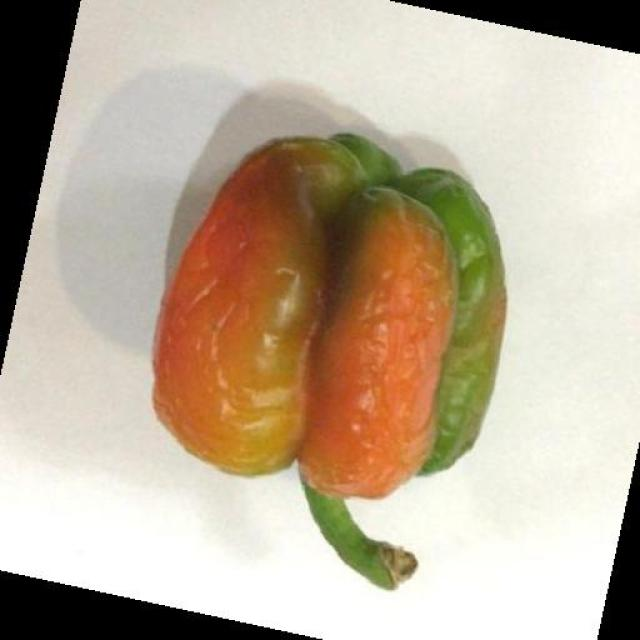Stale_Capsicum: (163, 113, 486, 476)
